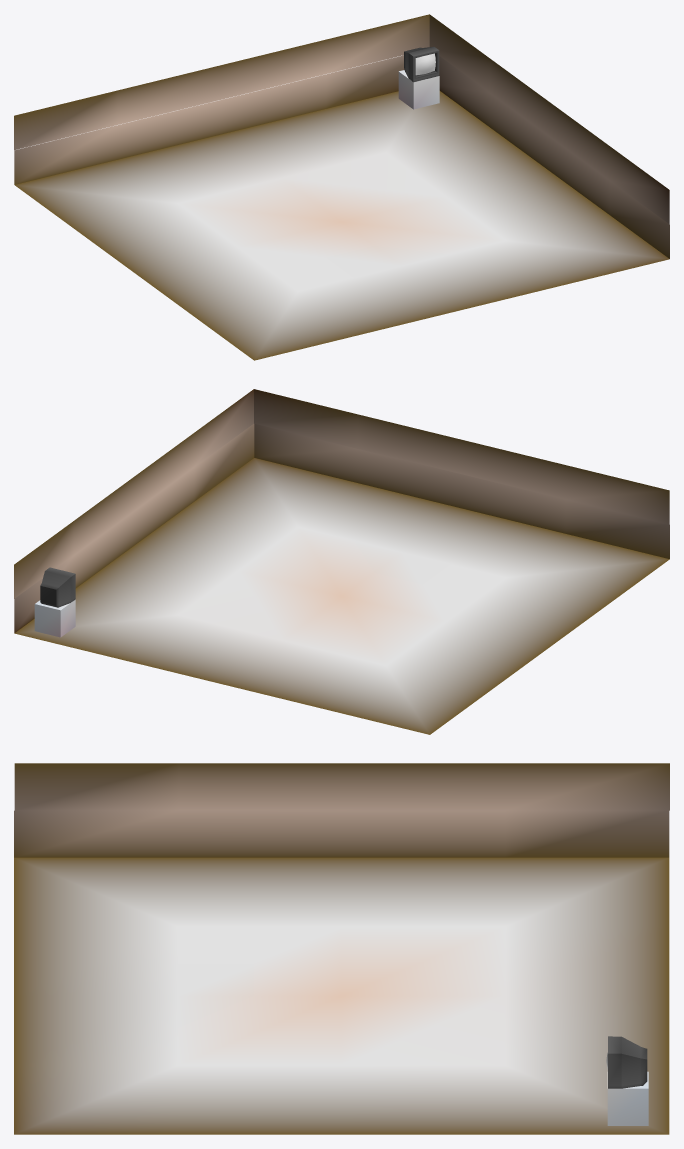
The model's file is vault.glb.
3 views of the same model, one above another, from view 1: azimuth 30°, elevation 25°; view 2: azimuth 150°, elevation 25°; view 3: azimuth 270°, elevation 25° (orthographic). The views are drawn at different scales.
Visible parts, largest first — view 1: Plane, Plane.001, Box, CRT; view 2: Plane, Plane.001, Box, CRT; view 3: Plane, Plane.001, CRT, Box.
Part boxes in pixels (x1=…): Plane: x1=14, y1=55, x2=669, y2=360; Plane.001: x1=14, y1=14, x2=669, y2=223; Box: x1=398, y1=70, x2=439, y2=109; CRT: x1=404, y1=46, x2=439, y2=82; Plane: x1=14, y1=423, x2=669, y2=734; Plane.001: x1=14, y1=389, x2=669, y2=598; Box: x1=34, y1=599, x2=75, y2=637; CRT: x1=40, y1=567, x2=75, y2=607; Plane: x1=14, y1=810, x2=669, y2=1134; Plane.001: x1=14, y1=763, x2=669, y2=810; CRT: x1=606, y1=1036, x2=647, y2=1088; Box: x1=607, y1=1071, x2=648, y2=1125.
Size of the model in its own units: 16 by 2.54 by 16.02.
